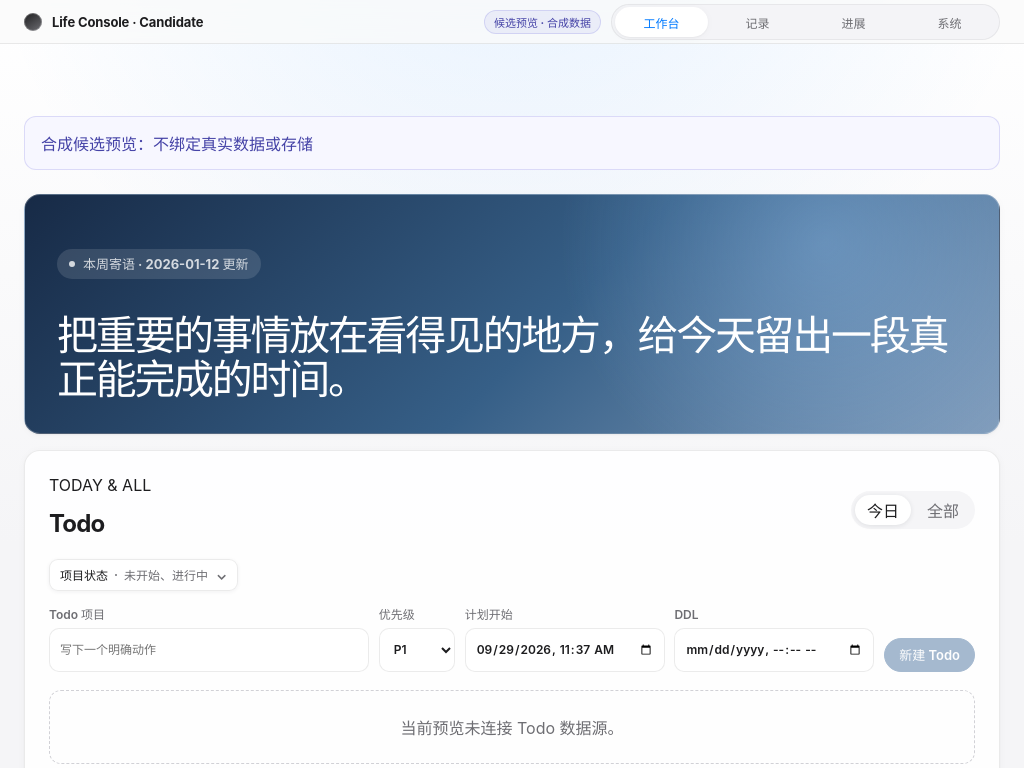
Life Console candidate preview › shows populated synthetic activity and sleep trends
Click the button "进展": (854, 22) [807,7,900,37]
(page scrolled)
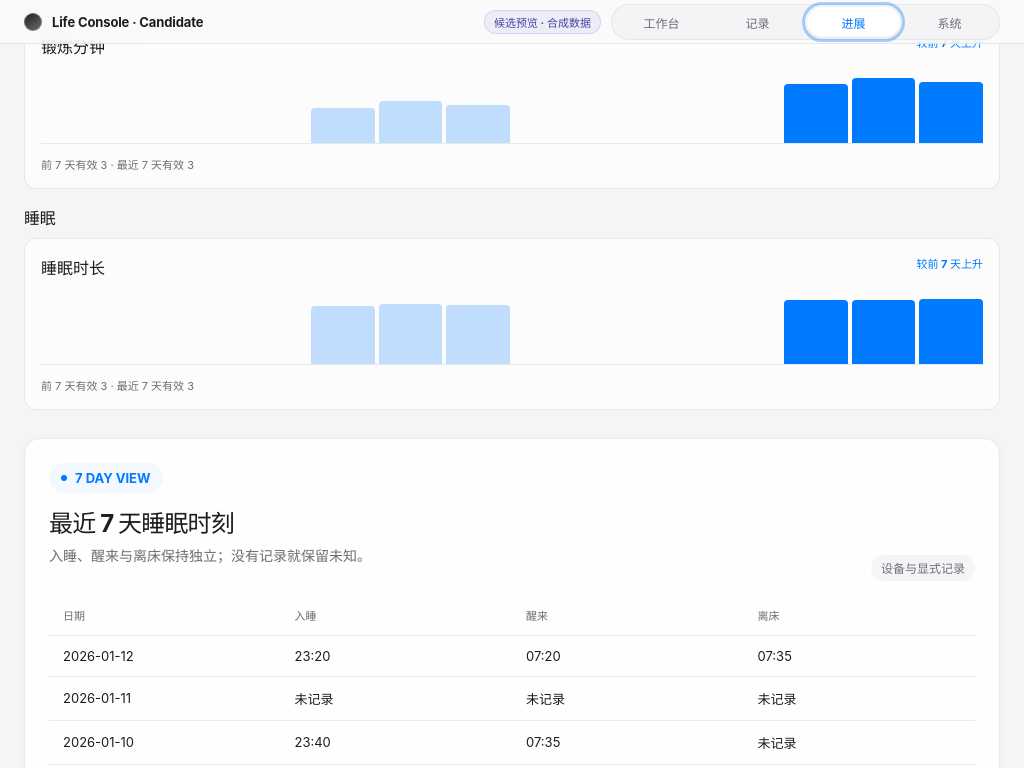
Result: the text "前 7 天有效 3 · 最近 7 天有效 3" below "锻炼分钟" is shown at [41,158,194,172]
Result: the text "前 7 天有效 3 · 最近 7 天有效 3" below "睡眠时长" is shown at [41,379,194,393]
